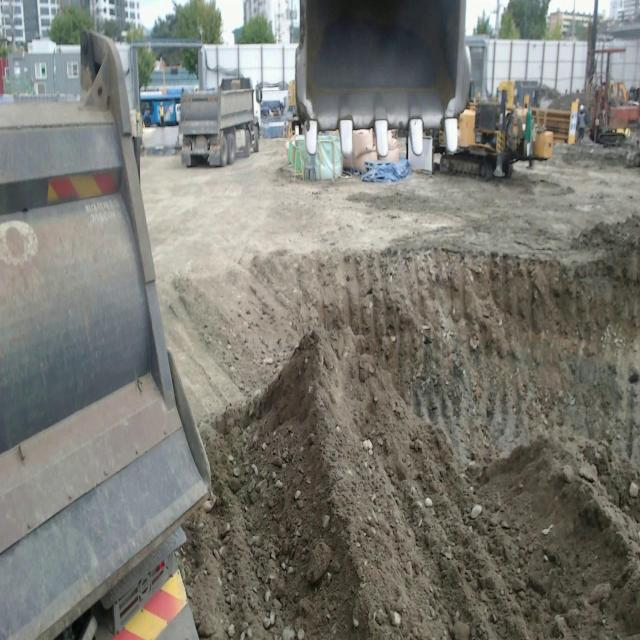red-sand: (181, 220, 640, 639)
